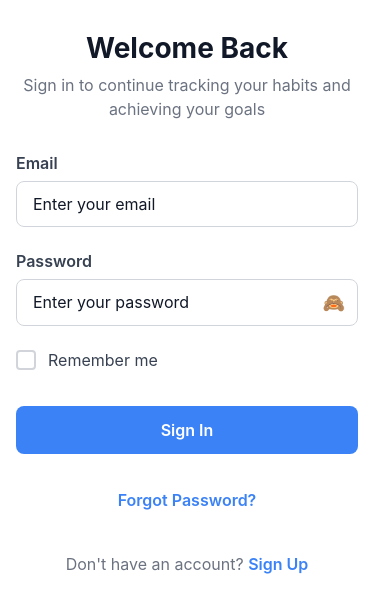
Test: LoginScreen › Form Validation › should validate email format
Enter invalid email
Type "invalid-email" into the field with test id "email-input".
click(187, 204); type("invalid-email")  # box [16,180,358,226]
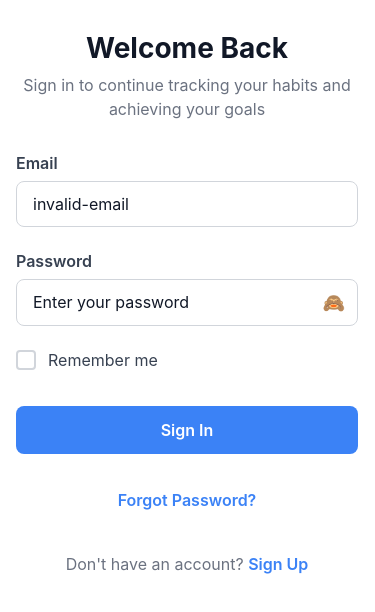
Click the element with test id "signin-button".
click(187, 430)  # box [16,406,358,454]
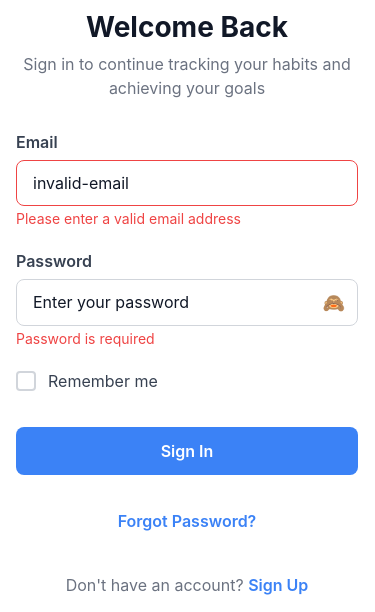
Now the text "Please enter a valid email address" is shown, box [16,210,241,226]
